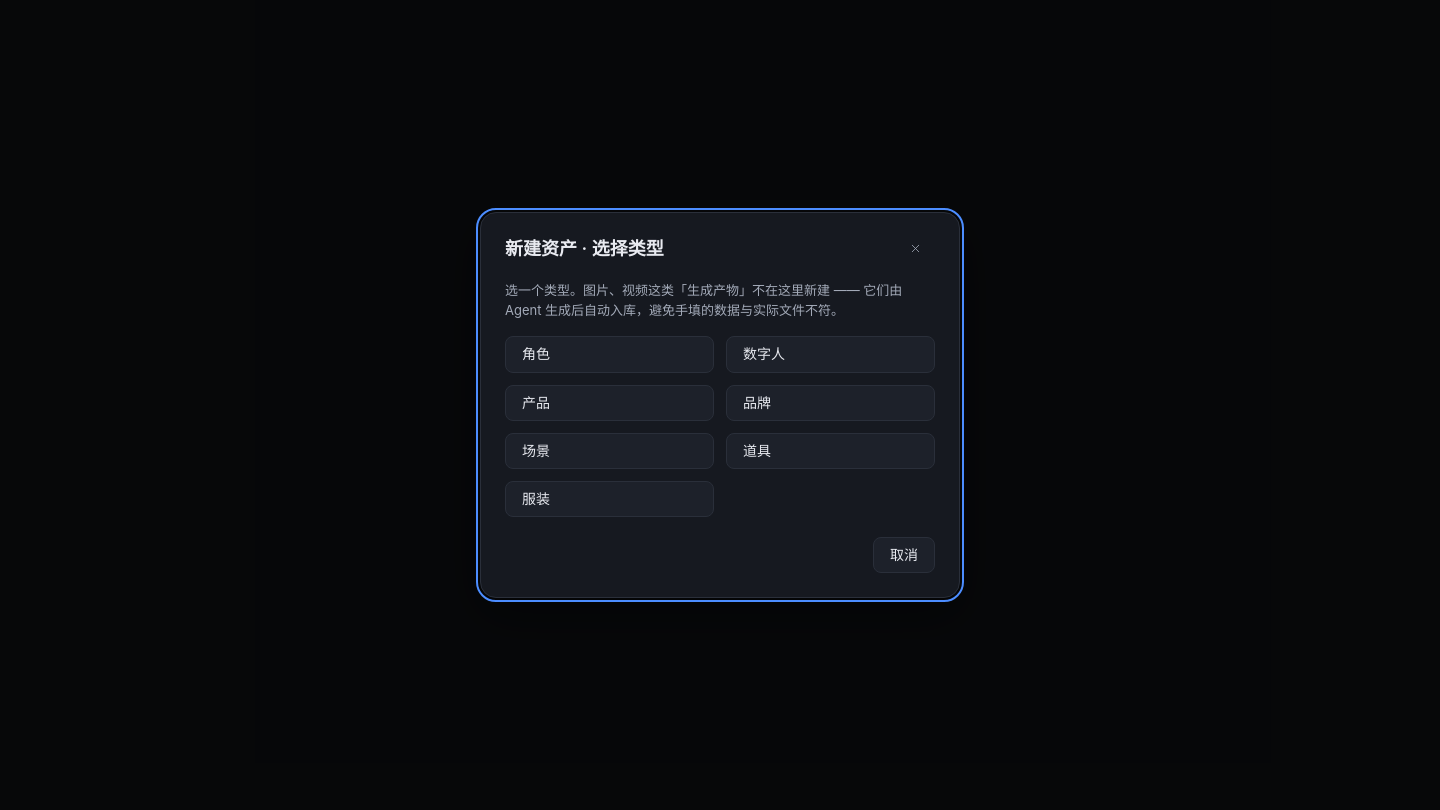
Test: AssetCreateDialog 的类型选择 › 预填名称：从「现在新建」进来时名字已经写好
Click the button "角色" at (610, 354), box [505, 336, 714, 373]
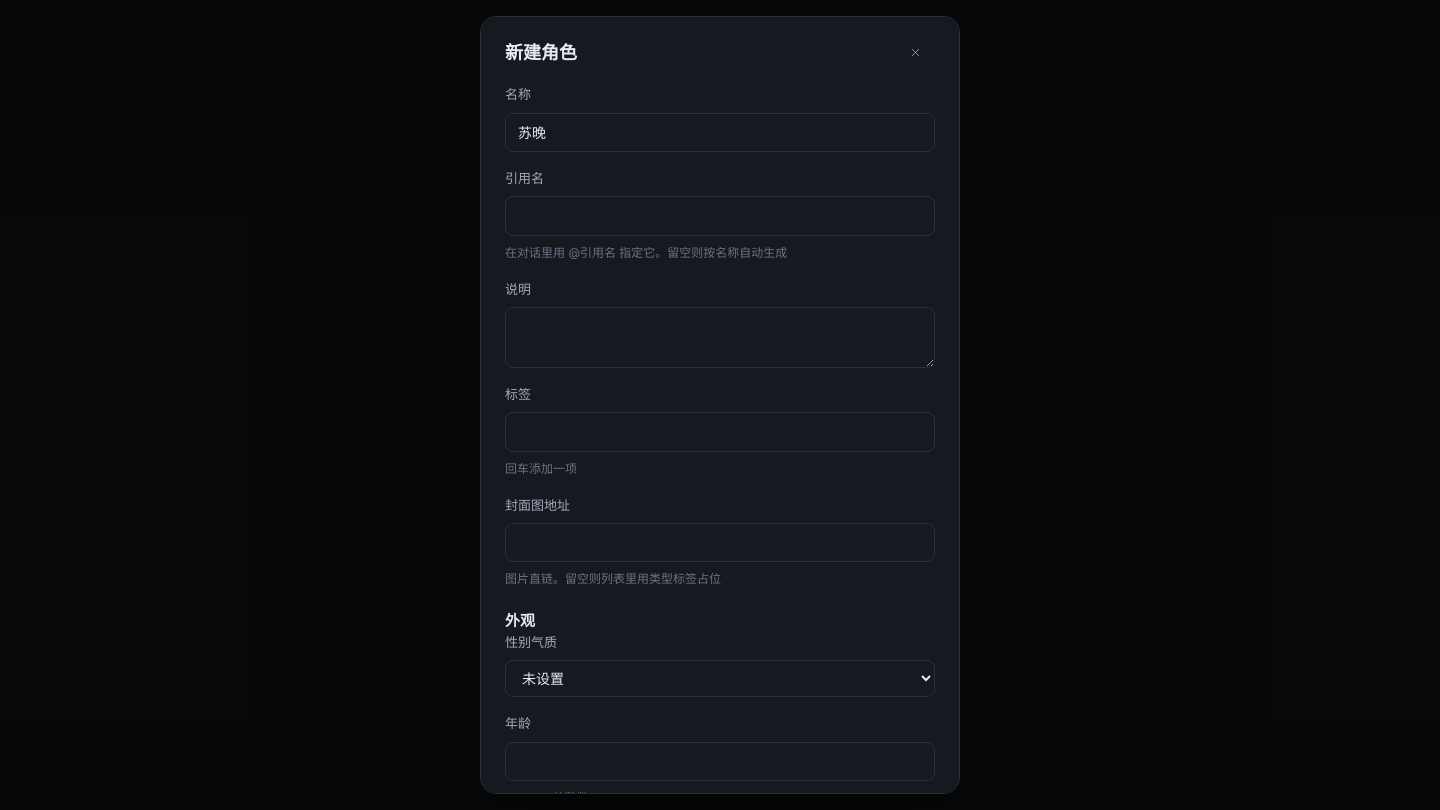
Expected: the field labelled "名称" holds "苏晚", [505, 112, 935, 152]
